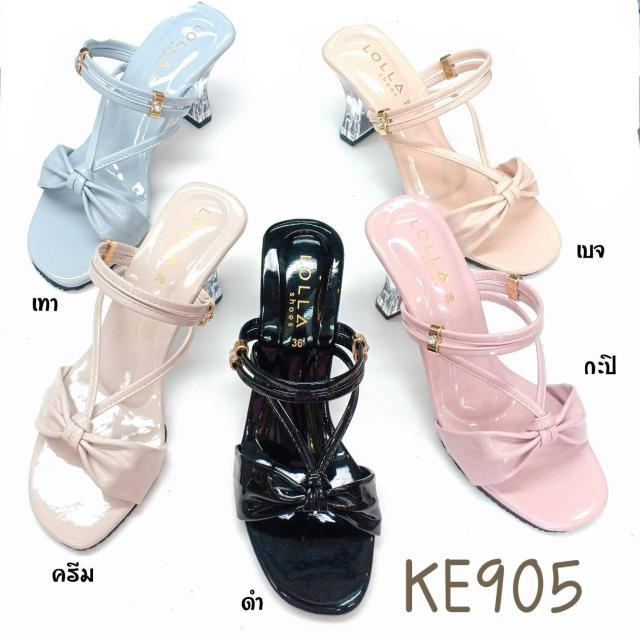bej: (327, 20, 576, 271)
black: (254, 200, 366, 632)
cream: (28, 181, 252, 562)
grey: (5, 0, 248, 285)
kapi: (370, 198, 619, 528)
